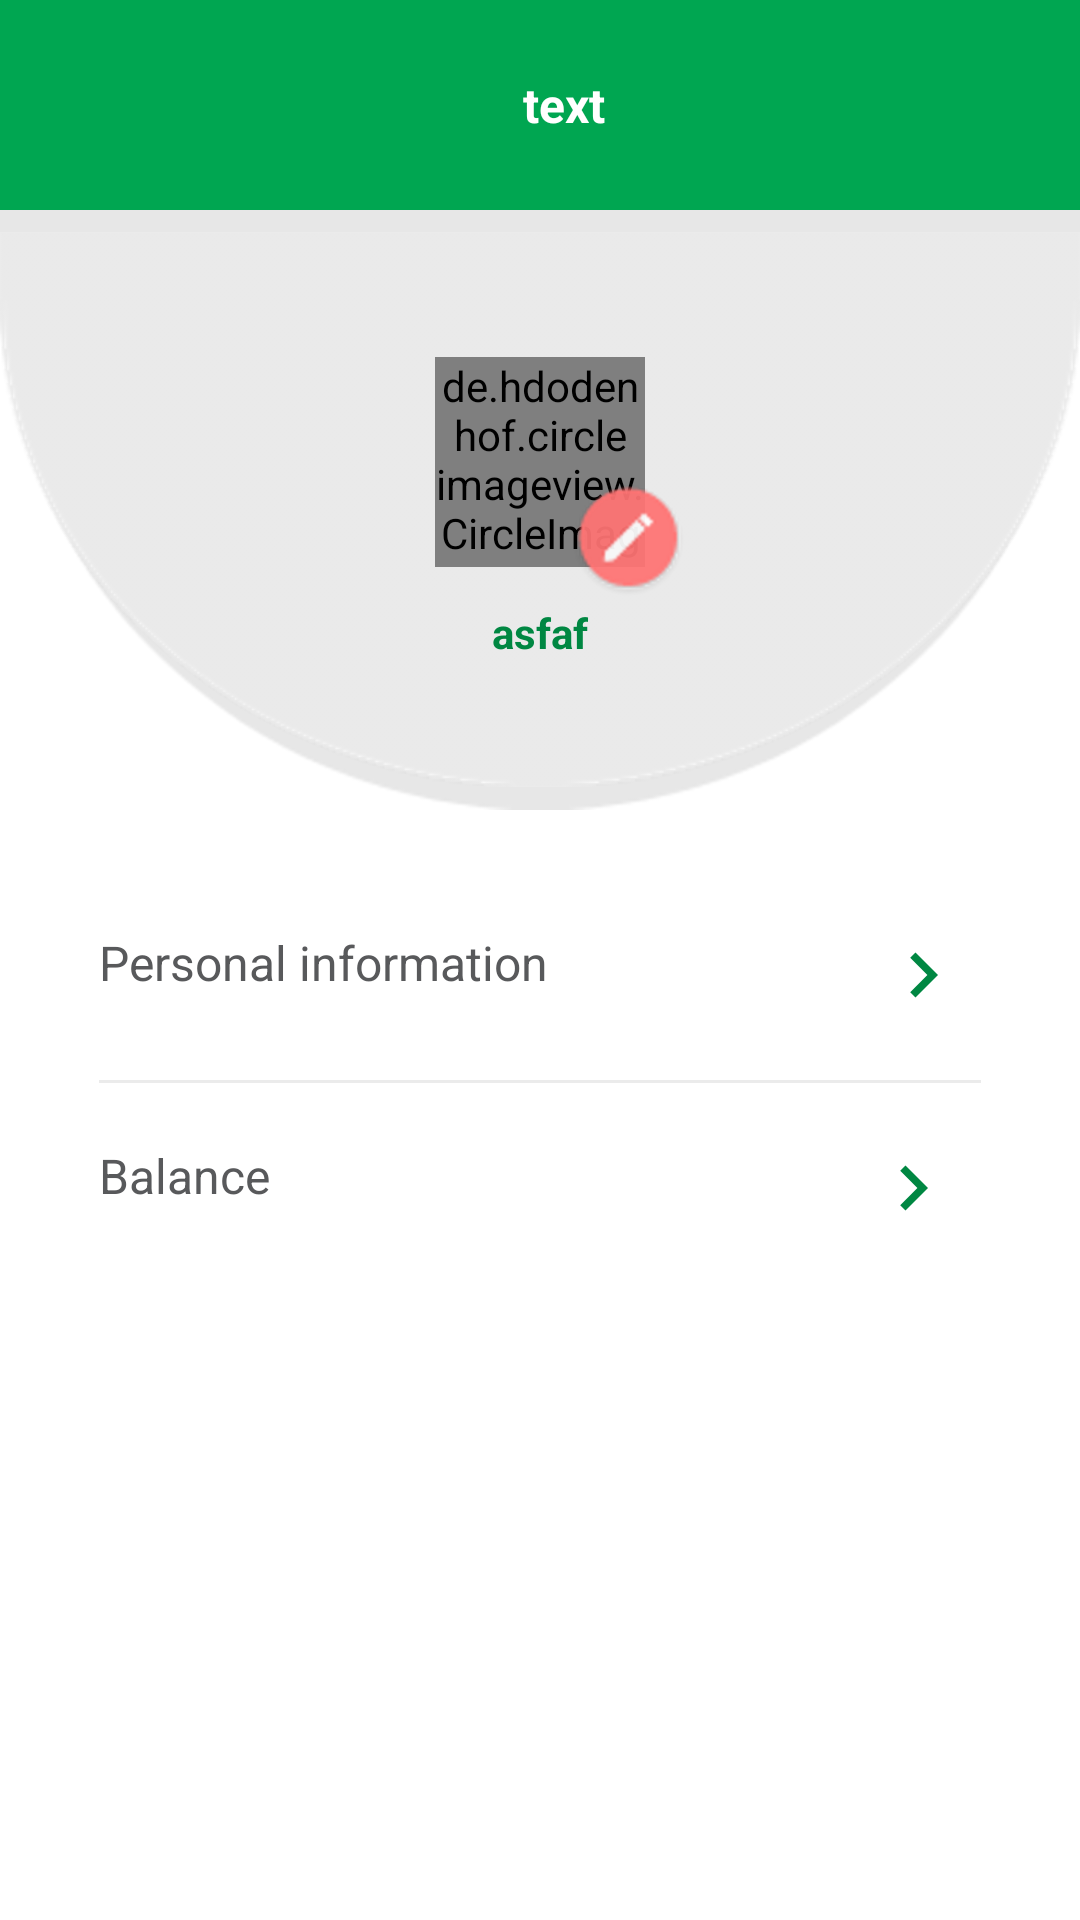

Where icons sit on this 1080 x 1920 app screen, as [x1, y1, x2, y2]:
chevron right: [910, 952, 938, 998], [900, 1165, 928, 1211]
edit: [566, 478, 678, 587]
